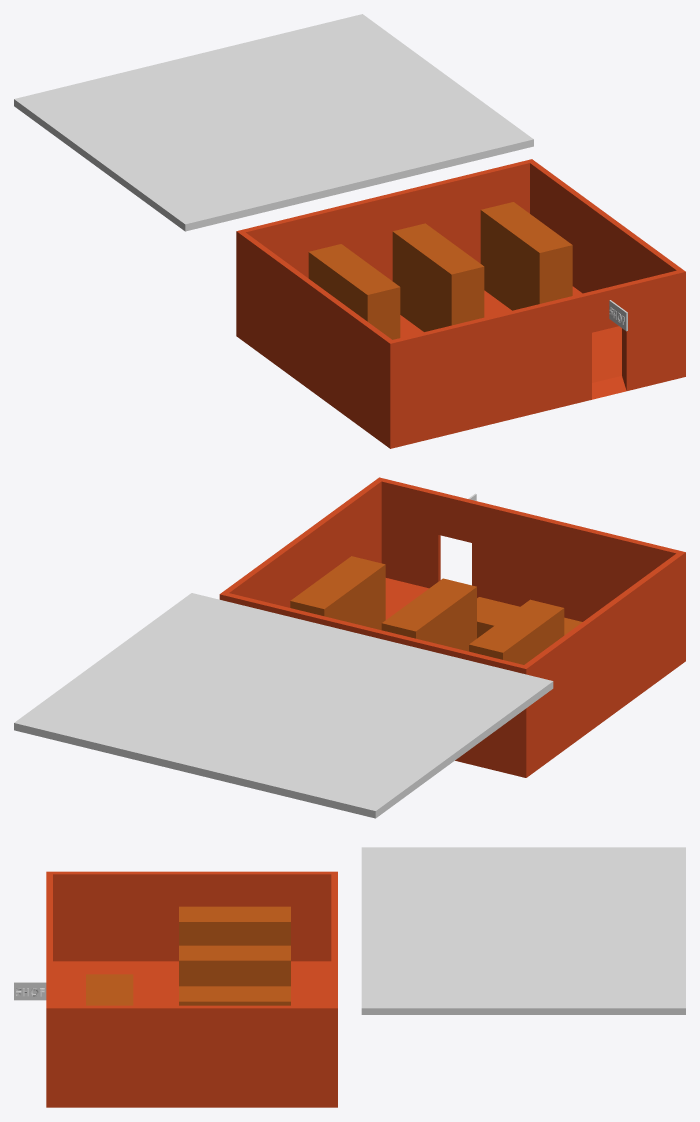
Rendered from BoxMall01.FBX.
3 renders of one model, top to bottom at view 1: azimuth 30°, elevation 25°; view 2: azimuth 150°, elevation 25°; view 3: azimuth 270°, elevation 25°, orthographic. The views are drawn at different scales.
Visible parts, largest first — view 1: Mall01, Mall01_Roof01; view 2: Mall01, Mall01_Roof01; view 3: Mall01, Mall01_Roof01, SignBoard003.
Boxes of the visible parts, x1,y1,x2,y2 form: Mall01: (236, 159, 685, 448); Mall01_Roof01: (14, 14, 533, 231); Mall01: (219, 477, 685, 777); Mall01_Roof01: (14, 593, 553, 818); Mall01: (46, 871, 337, 1107); Mall01_Roof01: (361, 847, 685, 1014); SignBoard003: (14, 982, 46, 1000).
Size of the model in its own units: 123 by 37.95 by 218.
